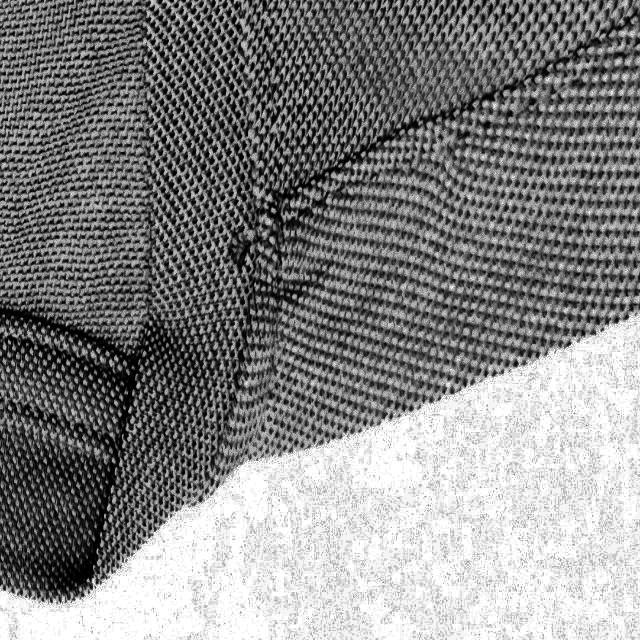Hole: (214, 218, 264, 272)
